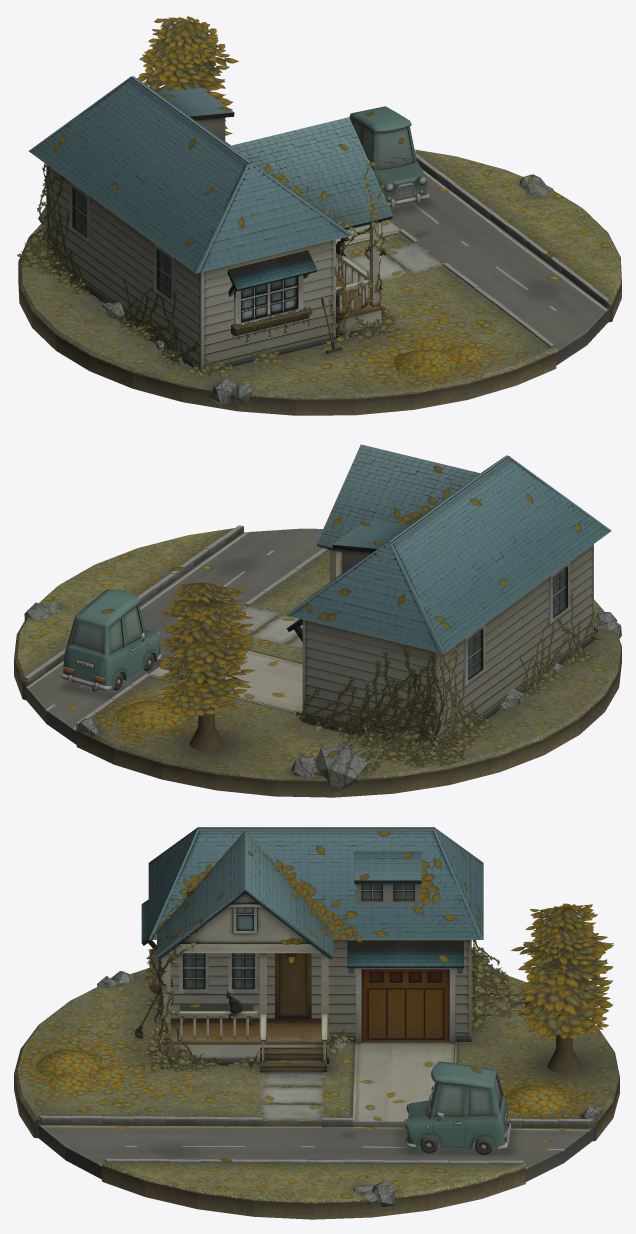
Rendered from house-transformed.glb.
The picture shows the model from 3 angles, top to bottom: view 1: azimuth 30°, elevation 25°; view 2: azimuth 150°, elevation 25°; view 3: azimuth 270°, elevation 25°; orthographic projection.
Visible parts, largest first — view 1: polySurface637_lambert15_0, House_roof_part_01_House_part01_mat_0, polySurface529_lambert14_0, House_roof_windows_01_lambert16_0, initialShadingGrouppolySurface116_polySurface3_lambert17_0; view 2: House_roof_part_01_House_part01_mat_0, polySurface637_lambert15_0, polySurface529_lambert14_0, initialShadingGrouppolySurface116_polySurface3_lambert17_0, House_roof_windows_01_lambert16_0; view 3: polySurface637_lambert15_0, House_roof_part_01_House_part01_mat_0, House_roof_windows_01_lambert16_0, polySurface529_lambert14_0, initialShadingGrouppolySurface116_polySurface3_lambert17_0.
Boxes of the visible parts, x1,y1,x2,y2 form: polySurface637_lambert15_0: (18, 149, 621, 415); House_roof_part_01_House_part01_mat_0: (28, 76, 392, 372); polySurface529_lambert14_0: (17, 16, 609, 405); House_roof_windows_01_lambert16_0: (69, 88, 381, 340); initialShadingGrouppolySurface116_polySurface3_lambert17_0: (349, 106, 429, 207); House_roof_part_01_House_part01_mat_0: (285, 444, 611, 747); polySurface637_lambert15_0: (14, 526, 621, 797); polySurface529_lambert14_0: (24, 465, 621, 792); initialShadingGrouppolySurface116_polySurface3_lambert17_0: (61, 589, 161, 691); House_roof_windows_01_lambert16_0: (286, 520, 570, 686); polySurface637_lambert15_0: (14, 968, 619, 1219); House_roof_part_01_House_part01_mat_0: (148, 827, 483, 1062); House_roof_windows_01_lambert16_0: (141, 851, 463, 1072); polySurface529_lambert14_0: (35, 830, 613, 1206); initialShadingGrouppolySurface116_polySurface3_lambert17_0: (404, 1061, 511, 1155).
Bounding box in the file's own units: 50.27 × 18.7 × 50.43.
6 materials, 5 textured.
